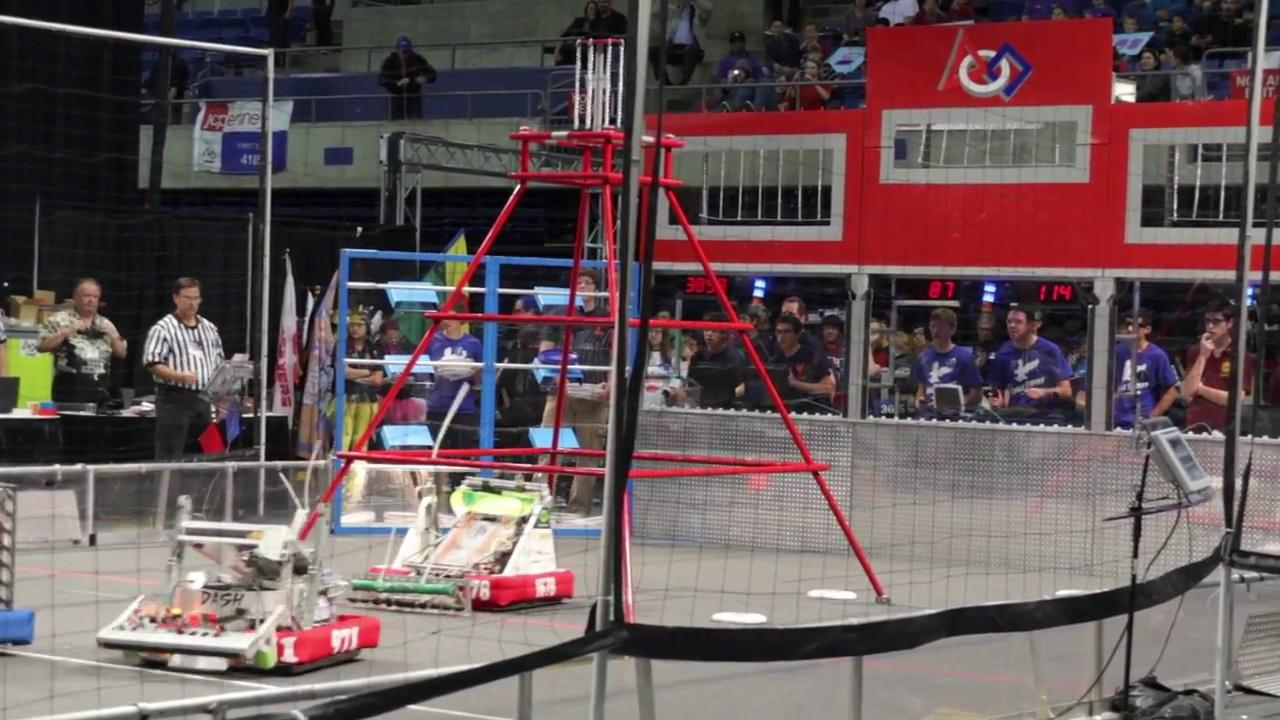robot: (96, 508, 385, 679), (344, 468, 580, 619)
